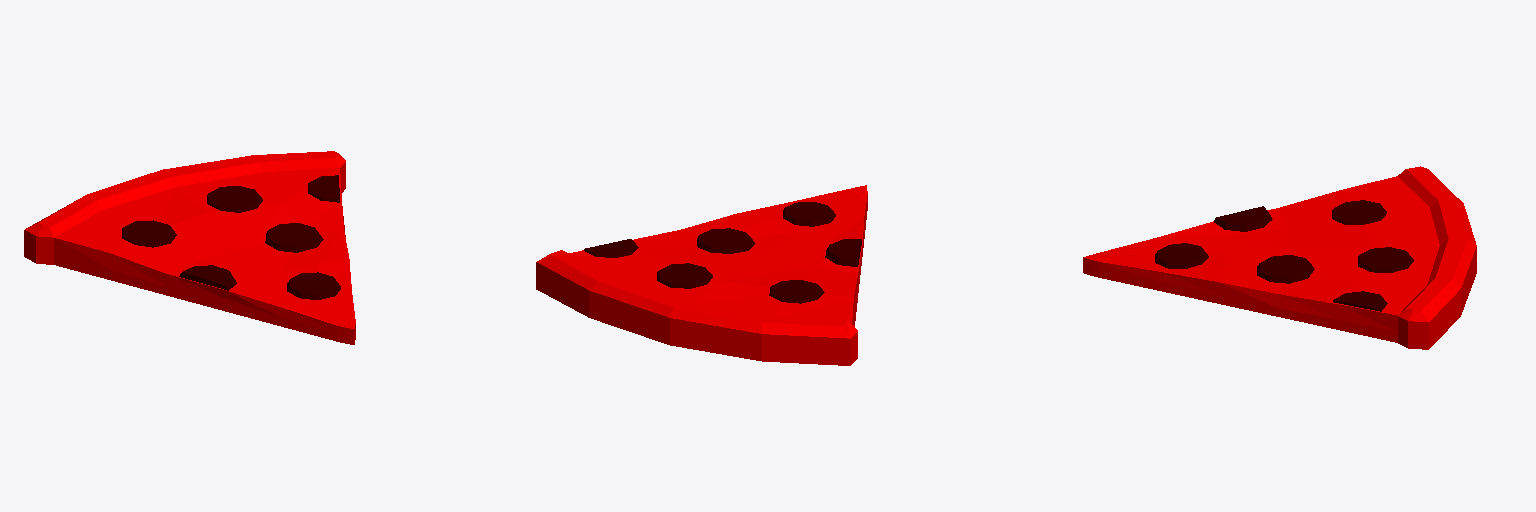
The model's file is RedSlice.obj.
3 views of the same model, side by side, from view 1: azimuth 30°, elevation 25°; view 2: azimuth 150°, elevation 25°; view 3: azimuth 270°, elevation 25° (orthographic).
Parts seen in each view (by area): view 1: Pizza_Slice_Cube.003; view 2: Pizza_Slice_Cube.003; view 3: Pizza_Slice_Cube.003.
Boxes of the visible parts, x1,y1,x2,y2 form: Pizza_Slice_Cube.003: [24, 151, 355, 344]; Pizza_Slice_Cube.003: [536, 185, 867, 365]; Pizza_Slice_Cube.003: [1083, 166, 1476, 349].
Bounding box in the file's own units: 1.07 × 0.1128 × 1.16.